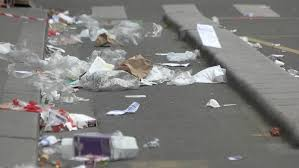garbage: (11, 46, 202, 88), (50, 18, 161, 45), (41, 134, 138, 160), (40, 108, 98, 133)
